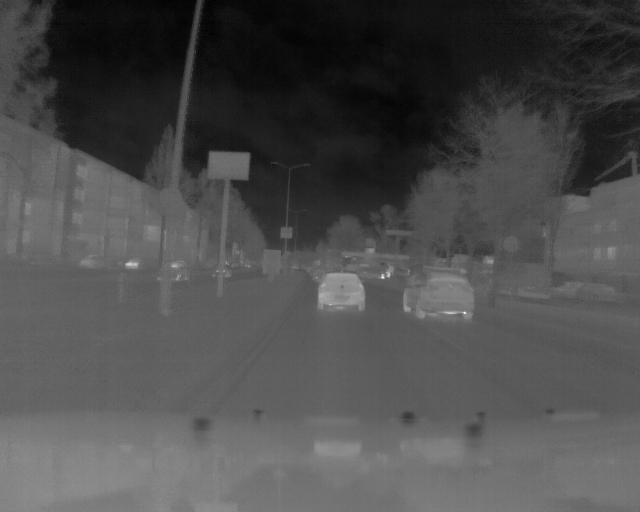car: (401, 271, 473, 320), (315, 270, 367, 312)
